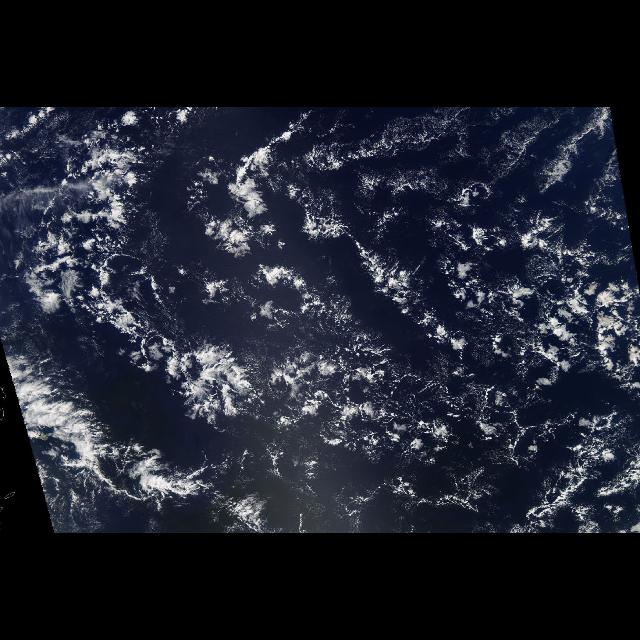Fish: (12, 130, 620, 532)
Flower: (179, 138, 317, 326)
Gravel: (233, 128, 635, 516)
Sugar: (358, 108, 626, 222)
